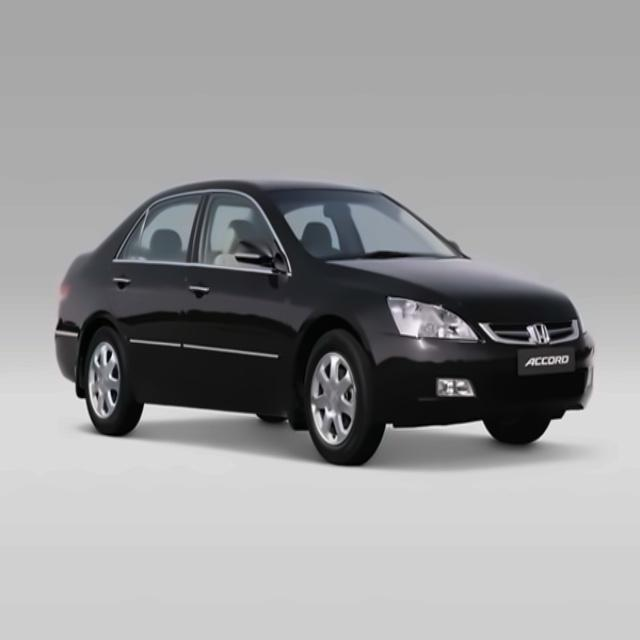Car hood: (323, 253, 581, 318)
Driver-s door - -F-R-: (184, 178, 288, 406)
Fender - -F-R-: (288, 250, 395, 419)
Fender - -R-R-: (71, 264, 126, 402)
Front bumper: (356, 333, 605, 434)
Headlight - -R-: (382, 290, 483, 346)
Passenger-s door - -R-R-: (103, 185, 184, 401)
Rear bumper: (45, 329, 87, 389)
Rear light - -R-: (50, 271, 77, 309)
Side bumper - -R-: (118, 375, 298, 423)
Side mirror - -L-: (444, 235, 470, 266)
Side mirror - -R-: (232, 236, 289, 281)
